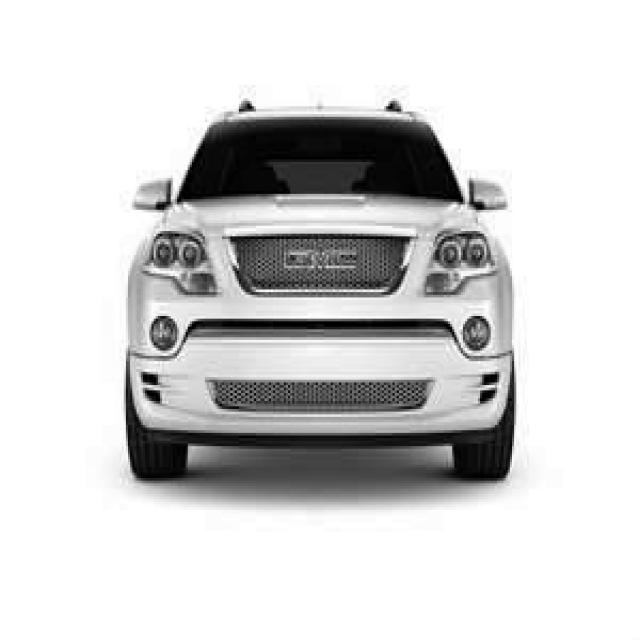car: (122, 96, 516, 480)
